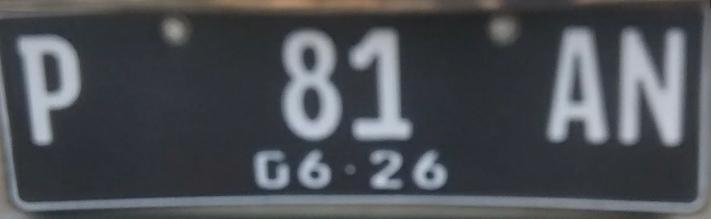1: (344, 15, 426, 142)
8: (273, 22, 344, 143)
A: (538, 21, 616, 151)
N: (615, 18, 692, 150)
P: (11, 30, 87, 151)
